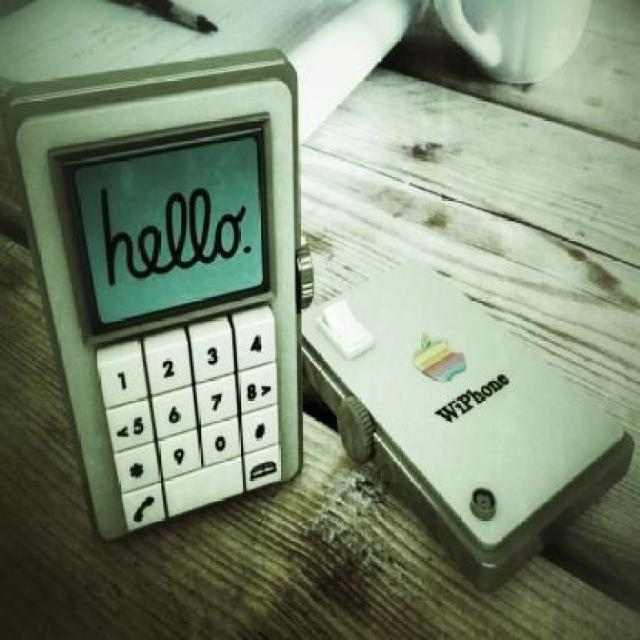phone: (299, 253, 636, 597)
